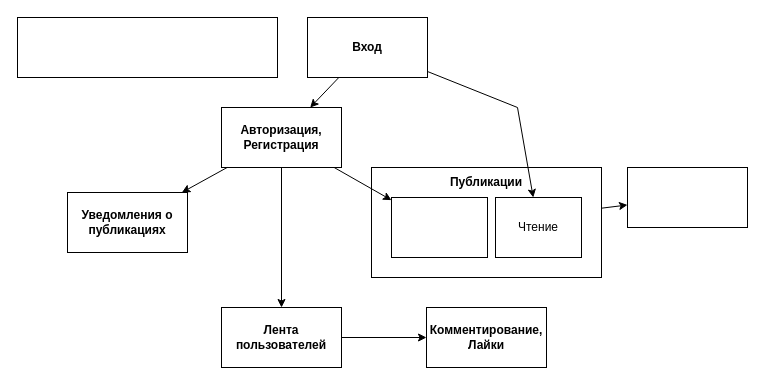
Image size: 765x385. Some labels were removed from this diagram. The shapes that lost their labels are listed below. From the top down, each one's centre as x and y in pixels, then its label:
point (147, 47): Backend For Frontend
point (687, 197): Поиск
point (439, 227): Добавление, Удаление, Редактирование
